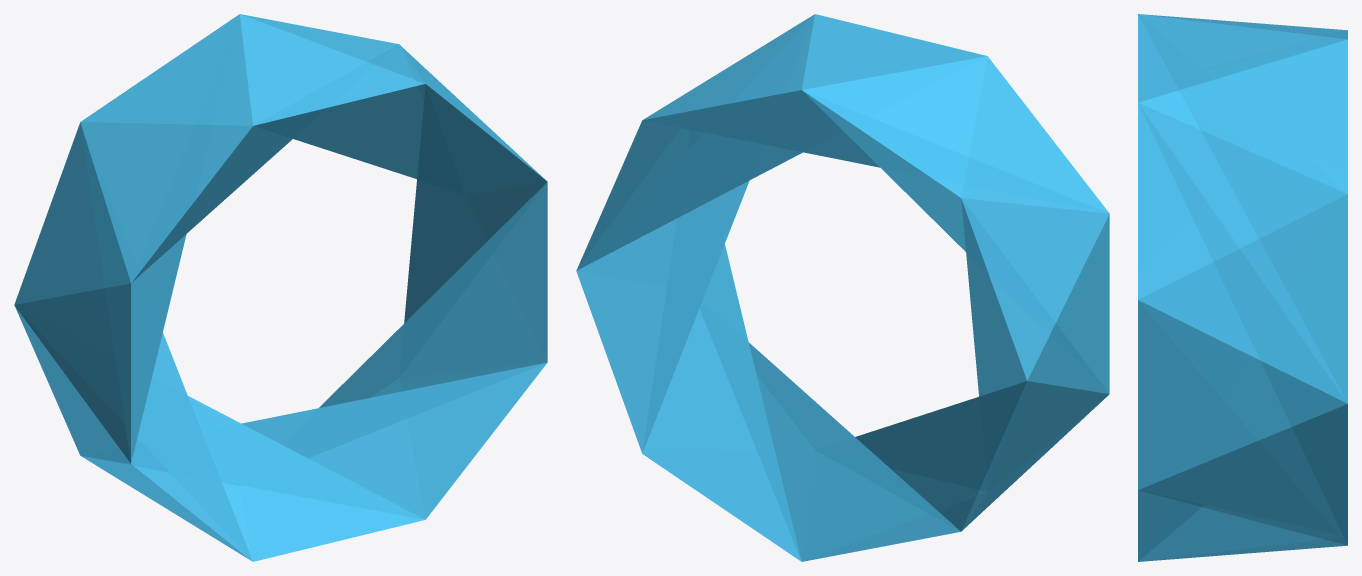
Rendered from AntiOctagonalIrisToroid.obj.
The picture shows the model from 3 angles, left to right: view 1: azimuth 30°, elevation 25°; view 2: azimuth 150°, elevation 25°; view 3: azimuth 270°, elevation 25°; orthographic projection. The views are drawn at different scales.
Size of the model in its own units: 2.61 by 2.61 by 1.
